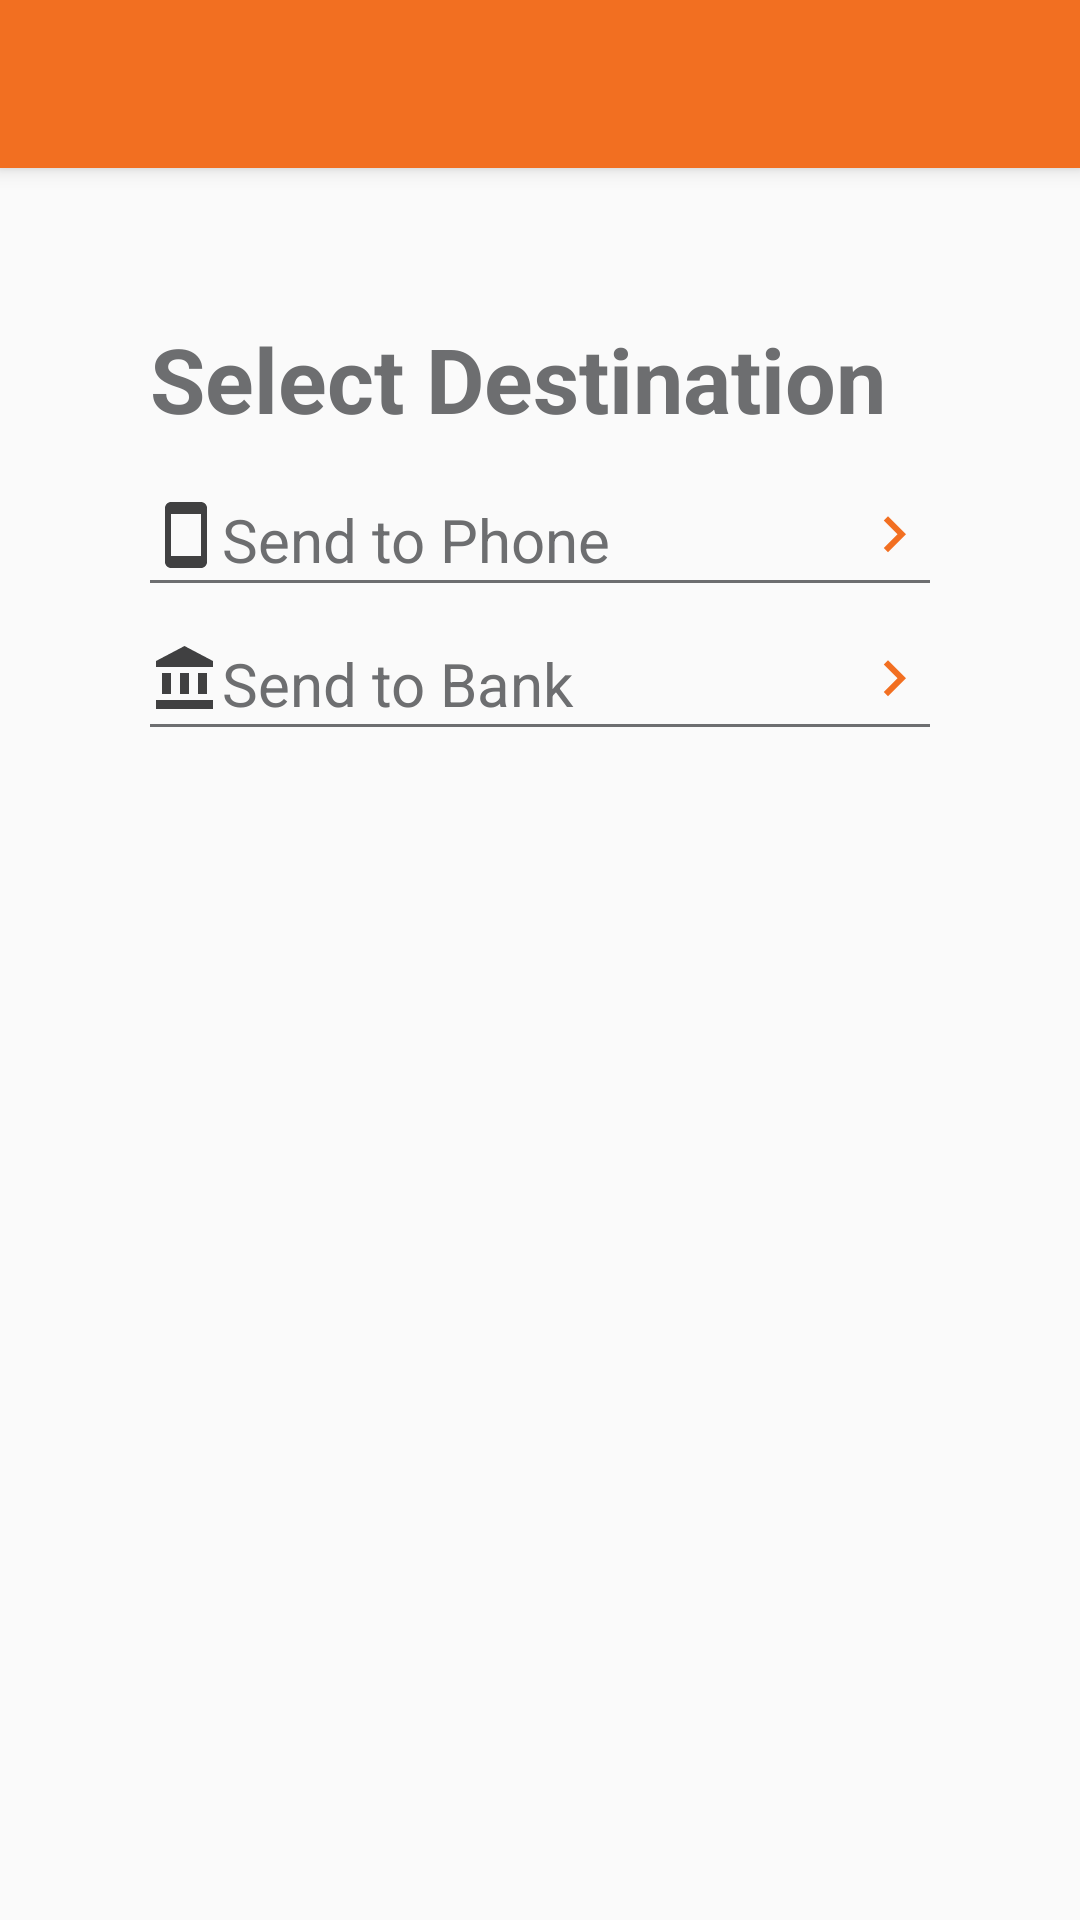

Screen size 1080 x 1920. Icon name, then its box in pixels as rect(x1, y1, x2, y2):
arrow right: rect(884, 516, 906, 552), rect(884, 660, 906, 696)
